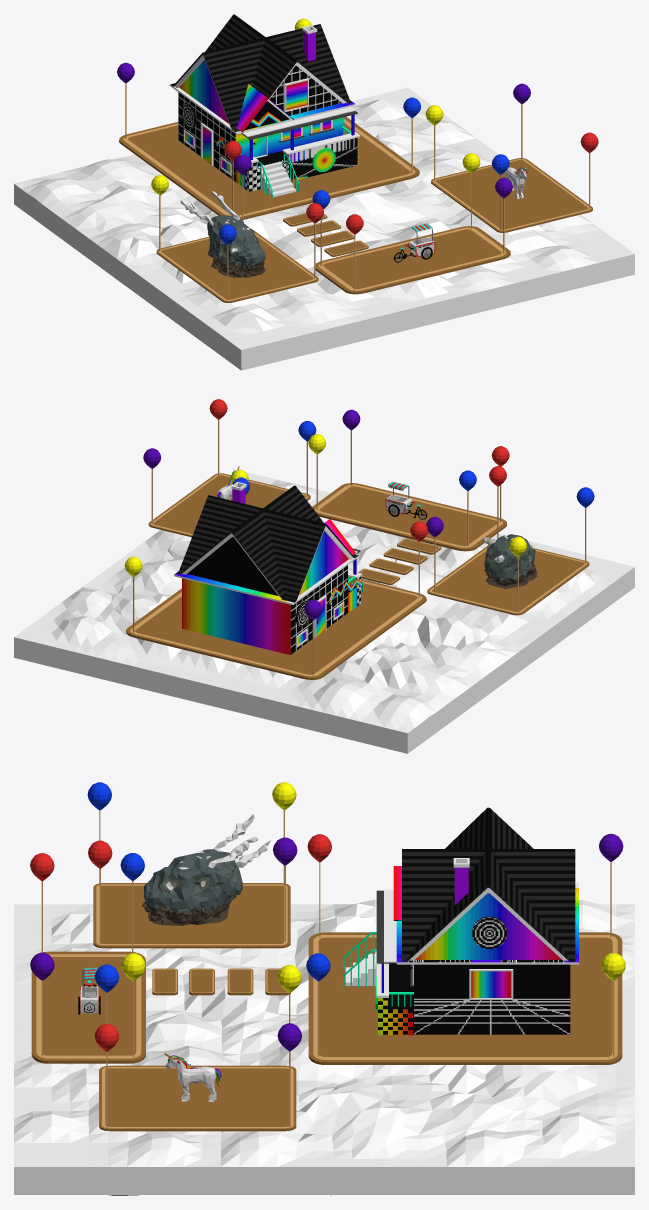
The picture shows the model from 3 angles, top to bottom: view 1: azimuth 30°, elevation 25°; view 2: azimuth 150°, elevation 25°; view 3: azimuth 270°, elevation 25°; orthographic projection. The views are drawn at different scales.
Parts seen in each view (by area): view 1: Cube.013, Cube.1320, OBJRANDOM_METEORITE, VEHICLES_SNOWBAL_BIKE; view 2: Cube.013, Cube.1320, OBJRANDOM_METEORITE, VEHICLES_SNOWBAL_BIKE; view 3: Cube.013, Cube.1320, OBJRANDOM_METEORITE, ANIMAL_UNICORNIO, VEHICLES_SNOWBAL_BIKE.
Part boxes in pixels (x1,y1,x2,y2): Cube.013: (14,18,634,370); Cube.1320: (169,14,360,198); OBJRANDOM_METEORITE: (180,191,265,277); VEHICLES_SNOWBAL_BIKE: (393,223,435,262); Cube.013: (14,399,634,753); Cube.1320: (174,482,363,654); OBJRANDOM_METEORITE: (482,534,537,588); VEHICLES_SNOWBAL_BIKE: (385,481,427,519); Cube.013: (14,782,634,1194); Cube.1320: (343,807,578,1035); OBJRANDOM_METEORITE: (142,814,270,925); ANIMAL_UNICORNIO: (164,1052,221,1101); VEHICLES_SNOWBAL_BIKE: (77,967,101,1014).
Size of the model in its own units: 4000 by 1661 by 4000.
37 materials, 3 textured.
